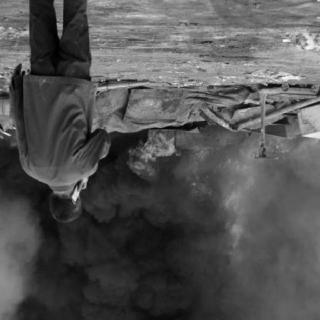Fire: (185, 134, 288, 280)
Smoke: (1, 185, 218, 317), (256, 169, 320, 320)
